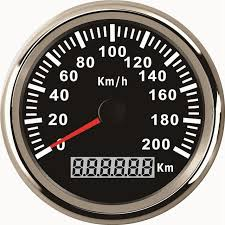Digital_Meter: (68, 156, 157, 181)
